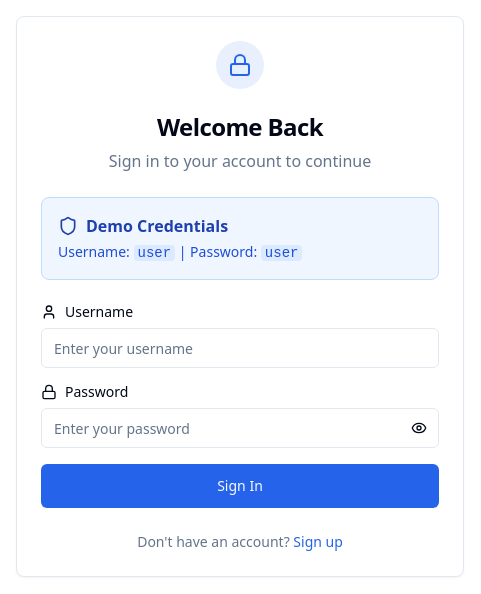
Test case: LoginPage › sanitizes input values
The image size is (481, 594).
Type "user<script>alert(\"xss\")</script>" into the field labelled "Username". click: (240, 348)
box: [41,328,439,368]
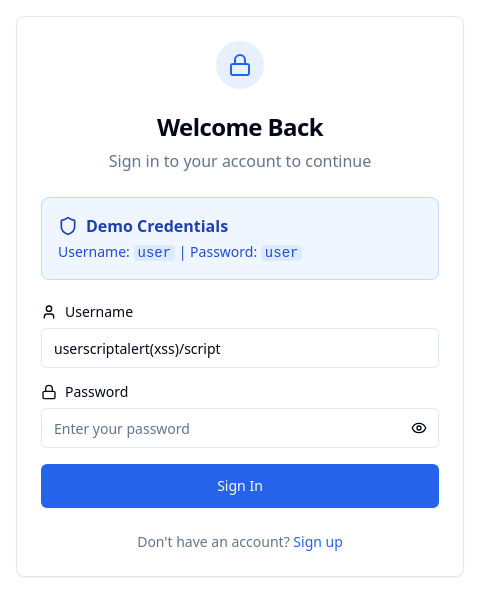
Expected: the field labelled "Username" holds "userscriptalert(xss)/script", [41,328,439,368]
